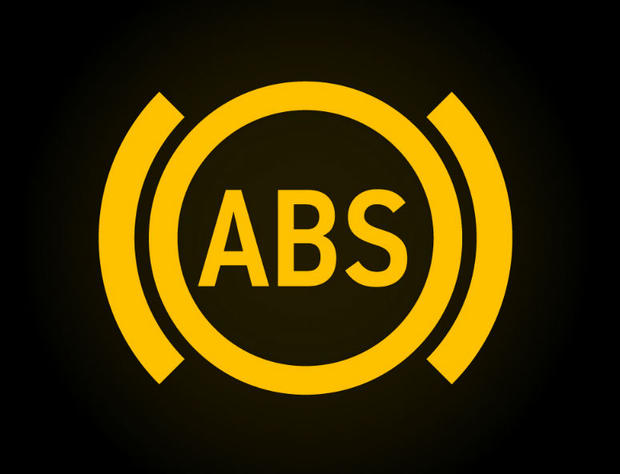ABS (anti-lock braking) system of the car.: (69, 64, 542, 410)
